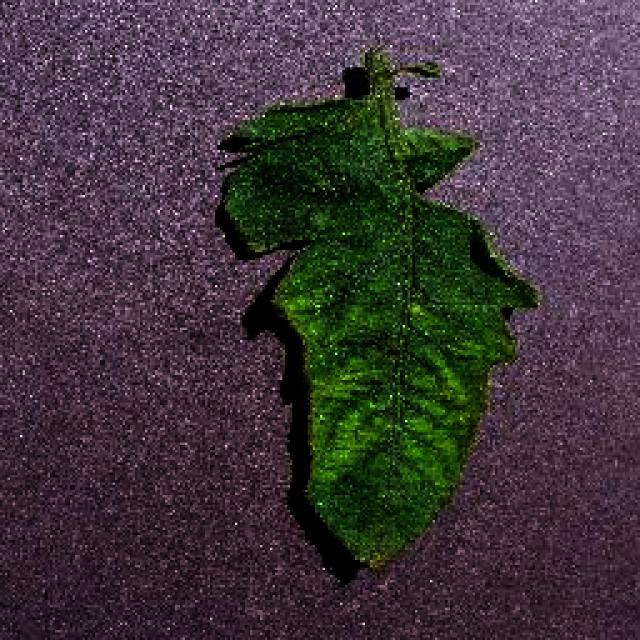Tomato mosaic virus leaf: (218, 98, 548, 574)
